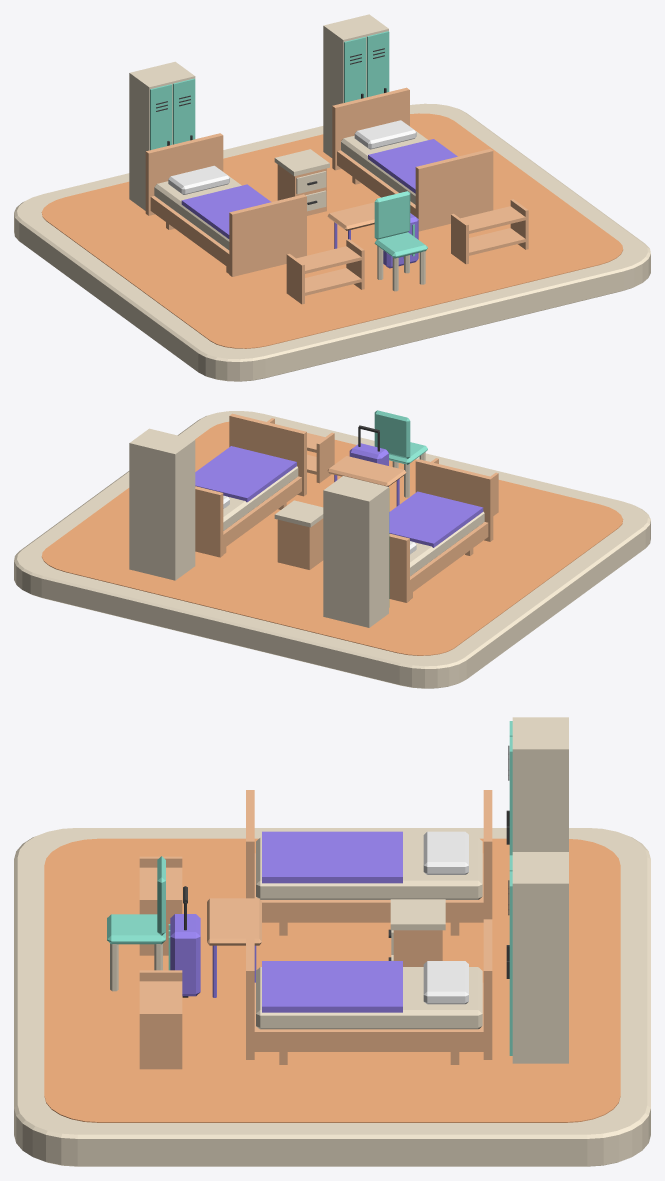
3 renders of one model, top to bottom at view 1: azimuth 30°, elevation 25°; view 2: azimuth 150°, elevation 25°; view 3: azimuth 270°, elevation 25°, orthographic. The views are drawn at different scales.
Parts seen in each view (by area): view 1: COM-02 Floor Surface, COM-01 Rounded Base Direct, End board, End board.002, Case, Case.001, End board.001, End board.003, Blanket, Blanket.001, Backrest, Mattress (+19 smaller); view 2: COM-02 Floor Surface, COM-01 Rounded Base Direct, Case.001, Case, Blanket.001, Blanket, End board, End board.002, Body, End board.003, Frame.001, Frame (+8 smaller); view 3: COM-02 Floor Surface, COM-01 Rounded Base Direct, Case.001, Case, Blanket, Blanket.001, Mattress.001, Mattress, Frame.001, Frame, Side.003, Rounded table top (+15 smaller).
Part boxes in pixels (x1,y1,x2,y2): COM-02 Floor Surface: (41,113,623,348); COM-01 Rounded Base Direct: (14,103,650,381); End board: (229,194,306,276); End board.002: (415,149,493,231); Case: (129,61,195,210); Case.001: (323,14,388,157); End board.001: (145,133,223,215); End board.003: (332,87,409,170); Blanket: (181,184,271,238); Blanket.001: (368,139,457,193); Backrest: (374,191,410,239); Mattress: (154,169,241,250); COM-02 Floor Surface: (41,421,623,655); COM-01 Rounded Base Direct: (14,411,650,688); Case.001: (129,428,195,580); Case: (323,476,388,627); Blanket.001: (195,446,296,502); Blanket: (389,491,483,547); End board: (415,459,493,541); End board.002: (229,413,306,496); Body: (277,518,323,569); End board.003: (195,486,223,557); Frame.001: (223,476,301,548); Frame: (410,522,488,593); COM-02 Floor Surface: (44,838,620,1122); COM-01 Rounded Base Direct: (14,828,650,1166); Case.001: (512,852,568,1063); Case: (512,717,568,851); Blanket: (262,831,402,883); Blanket.001: (262,961,402,1012); Mattress.001: (256,967,482,1029); Mattress: (256,837,482,899); Frame.001: (254,982,483,1051); Frame: (254,853,483,922); Side.003: (139,1012,182,1069); Rounded table top: (207,898,261,945).
Size of the model in its own units: 6 by 1.92 by 5.2.
Materials: 1 (1 with a texture image).
